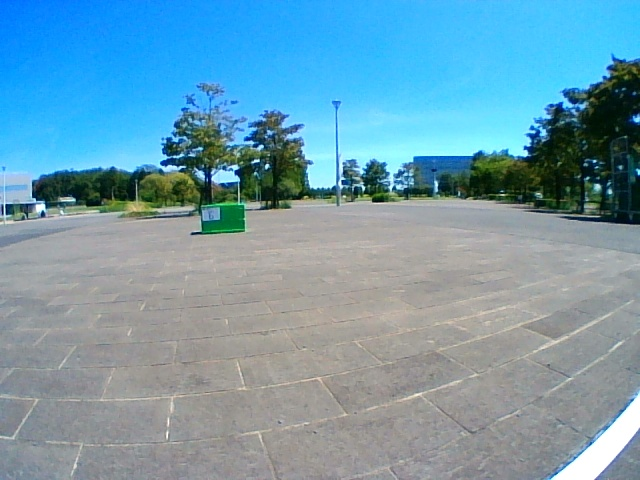green_box: (201, 204, 245, 233)
tag: (203, 208, 219, 220)
